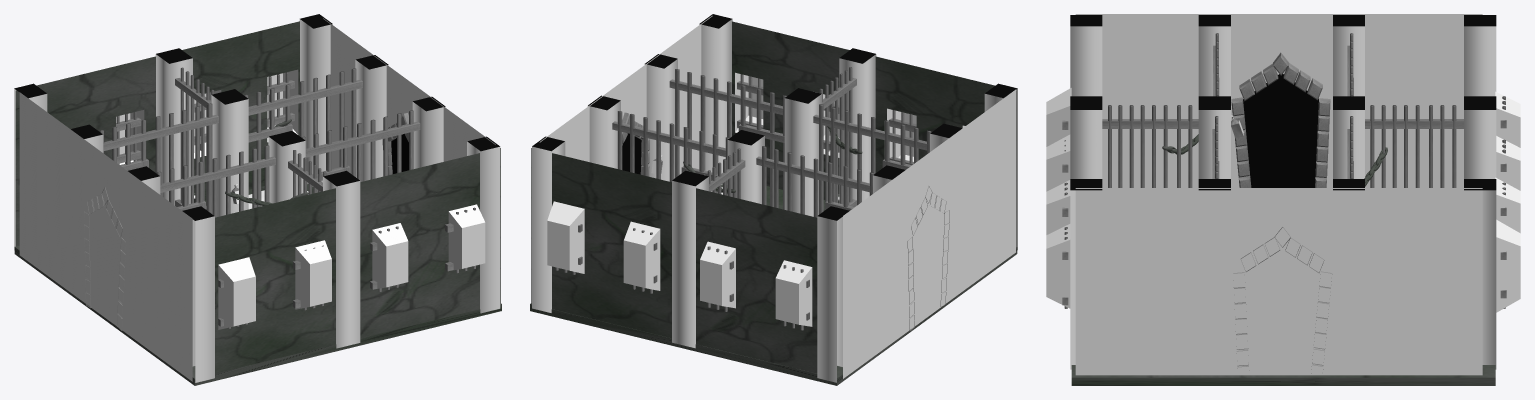
File: Jail.fbx
The picture shows the model from 3 angles, left to right: view 1: azimuth 30°, elevation 25°; view 2: azimuth 150°, elevation 25°; view 3: azimuth 270°, elevation 25°; orthographic projection. The views are drawn at different scales.
Visible parts, largest first — view 1: pPlane7, pCube171, pPlane8, pCube178, pPlane6, pPlane9, polySurface934, polySurface937; view 2: pPlane6, pCube171, pPlane8, pCube178, pPlane7, pPlane9, polySurface937, polySurface934, polySurface964; view 3: pPlane9, pCube171, pPlane8, pPlane7, pPlane6, polySurface934, polySurface937, pCube178.
Boxes of the visible parts, x1,y1,x2,y2 form: pPlane7: (215,148,500,373); pCube171: (14,14,501,385); pPlane8: (19,92,192,381); pCube178: (99,68,475,328); pPlane6: (15,21,299,246); pPlane9: (323,18,495,173); polySurface934: (175,67,214,210); polySurface937: (288,150,328,196); pPlane6: (531,148,817,373); pCube171: (530,14,1017,385); pPlane8: (843,89,1015,378); pCube178: (555,72,931,330); pPlane7: (732,21,1016,246); pPlane9: (539,15,712,174); polySurface937: (815,67,856,207); polySurface934: (703,148,745,198); polySurface964: (675,69,679,177); pPlane9: (1075,188,1482,375); pCube171: (1070,15,1496,385); pPlane8: (1075,14,1482,187); pPlane7: (1046,88,1071,308); pPlane6: (1495,91,1520,312); polySurface934: (1365,105,1463,187); polySurface937: (1102,105,1198,187); pCube178: (1062,33,1506,308).
Size of the model in its own units: 110 by 57.61 by 125.
